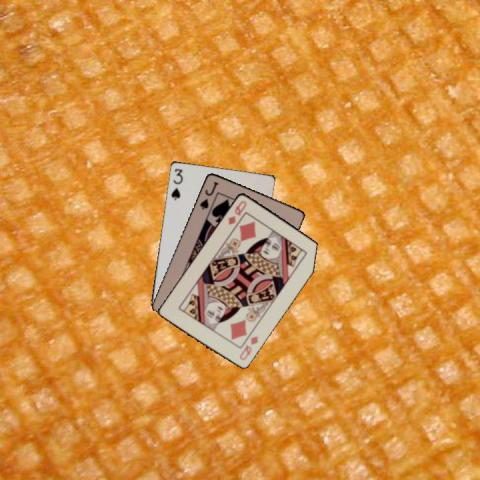3s: (168, 165, 184, 201)
Js: (197, 178, 220, 211)
Qd: (225, 197, 248, 226), (236, 333, 259, 361)
